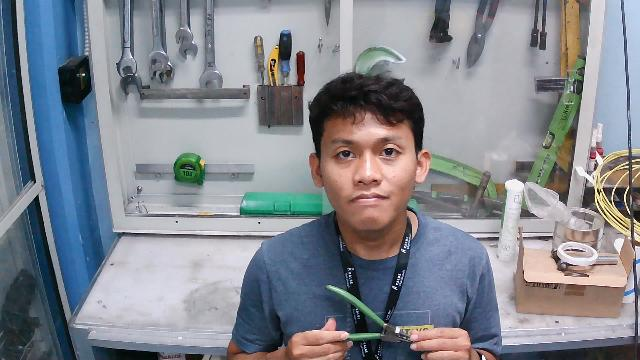tang_cucut_lancip_2: (315, 278, 421, 356)
